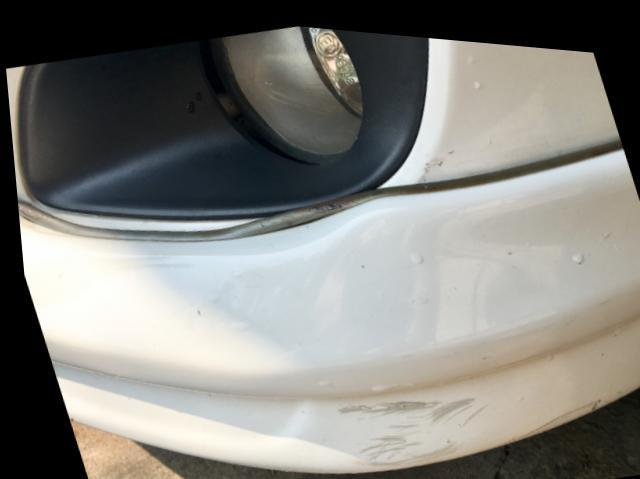scratch: (325, 384, 485, 466)
